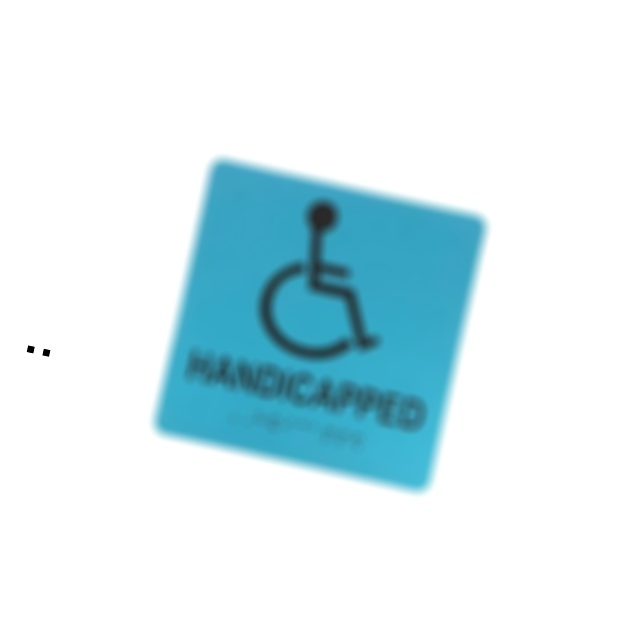ISA: (250, 185, 411, 376)
